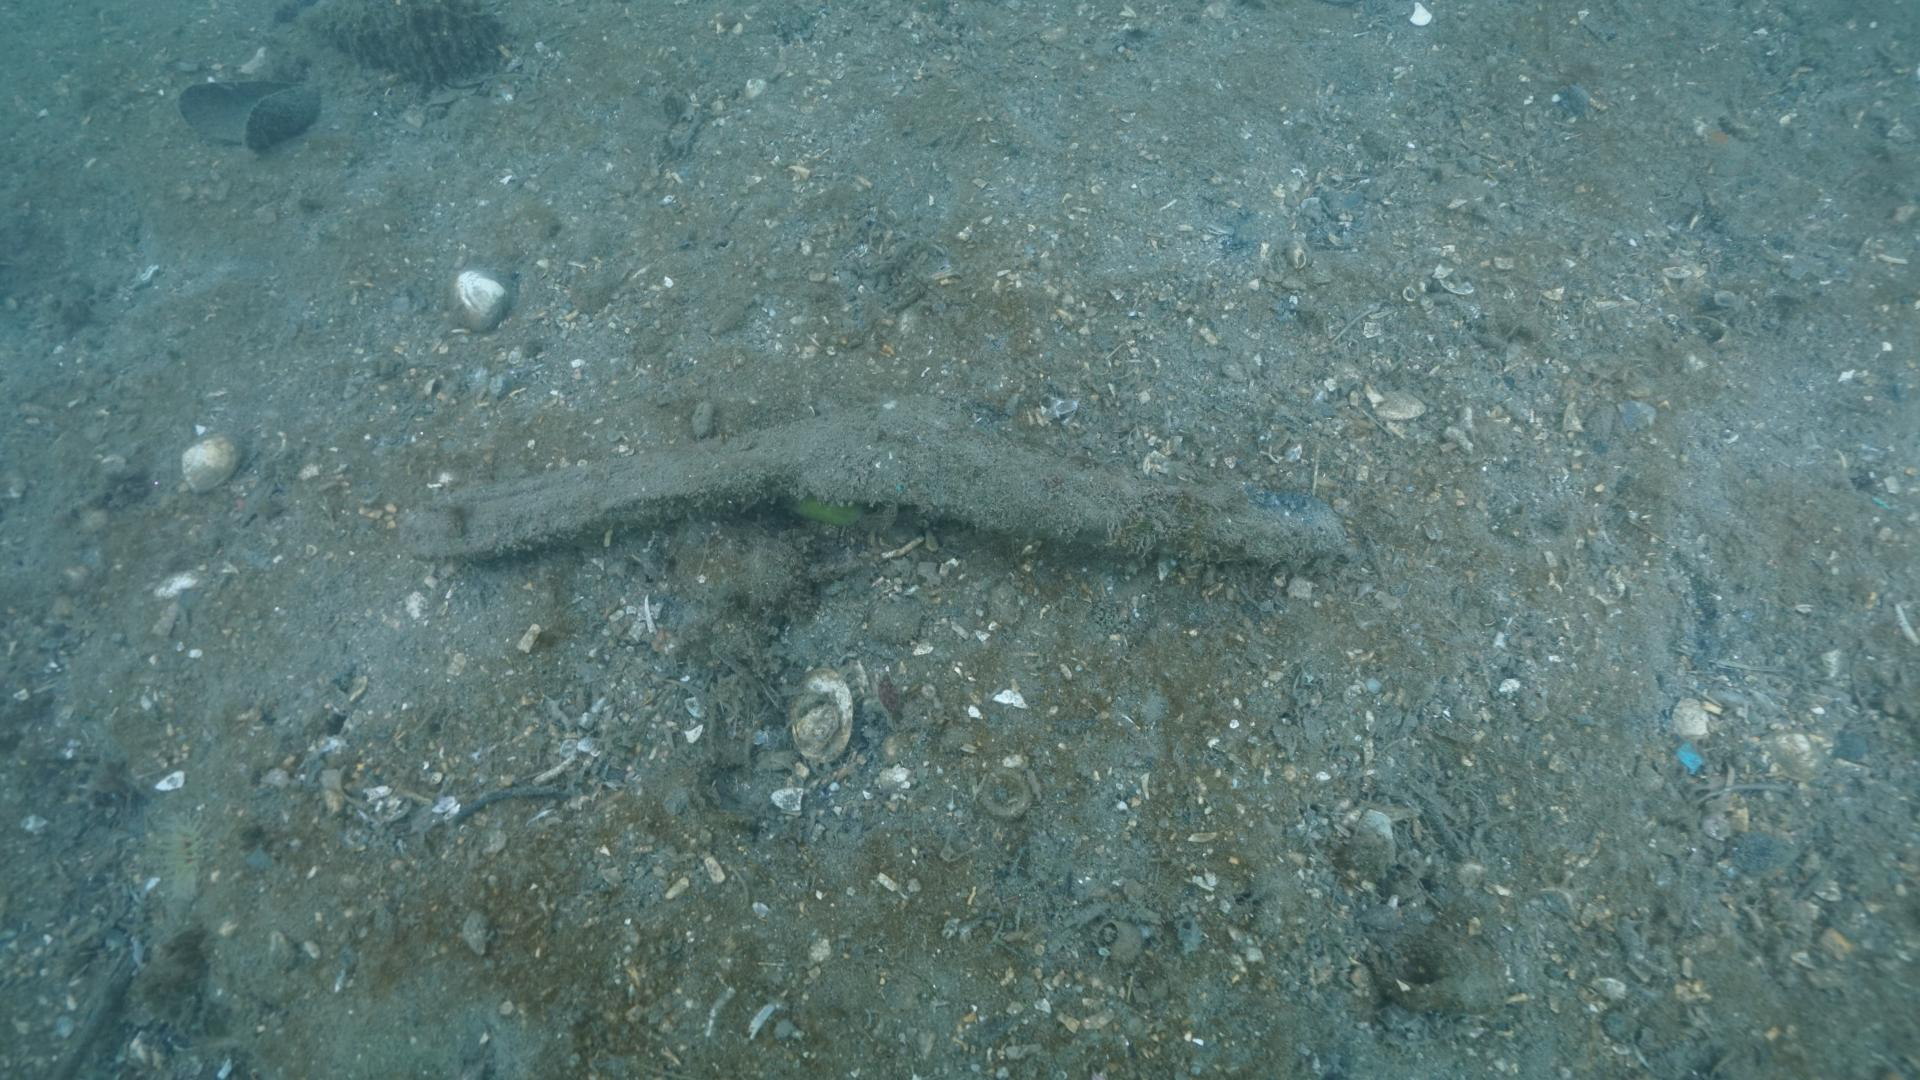wood: (396, 407, 1348, 564)
